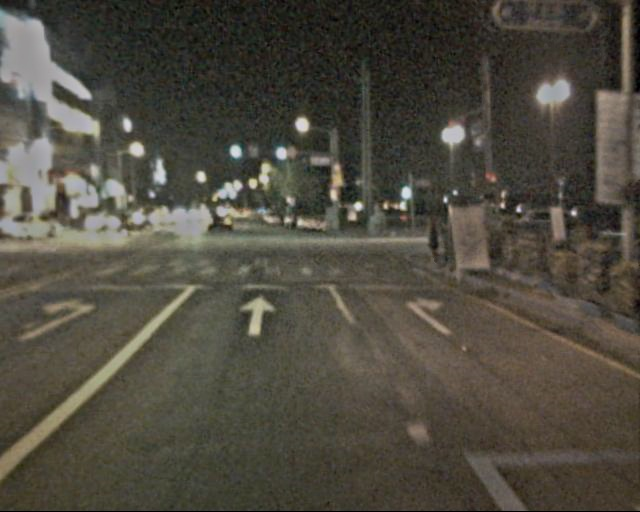person: (422, 210, 445, 269)
